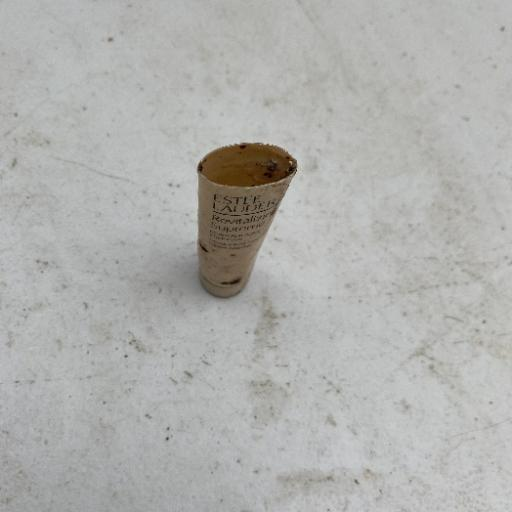Plastic: (192, 139, 299, 299)
